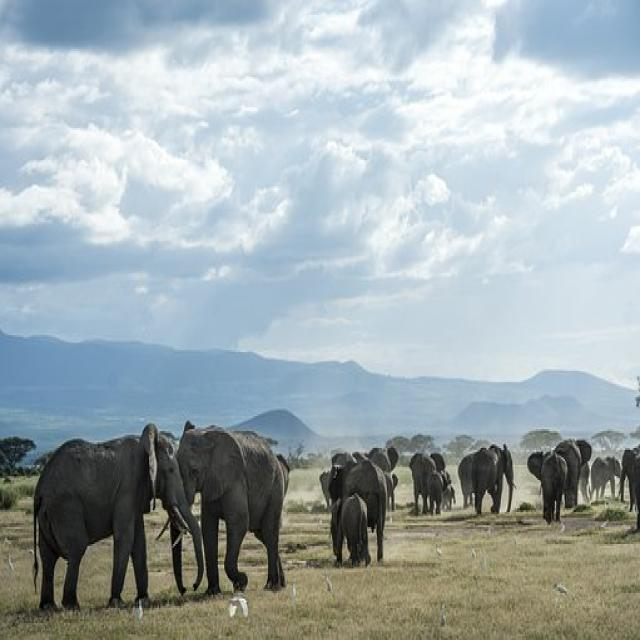Elephant: (13, 413, 194, 619), (174, 392, 297, 620), (319, 426, 393, 590), (524, 432, 585, 541), (458, 434, 514, 535), (412, 436, 446, 524)
